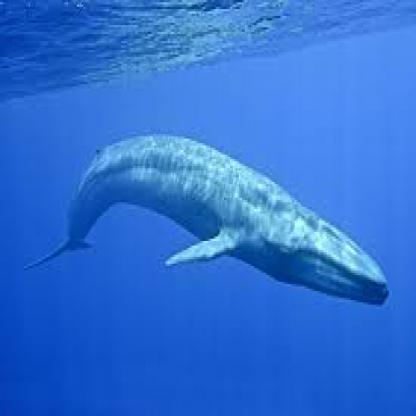blue_whale: (26, 118, 393, 373)
